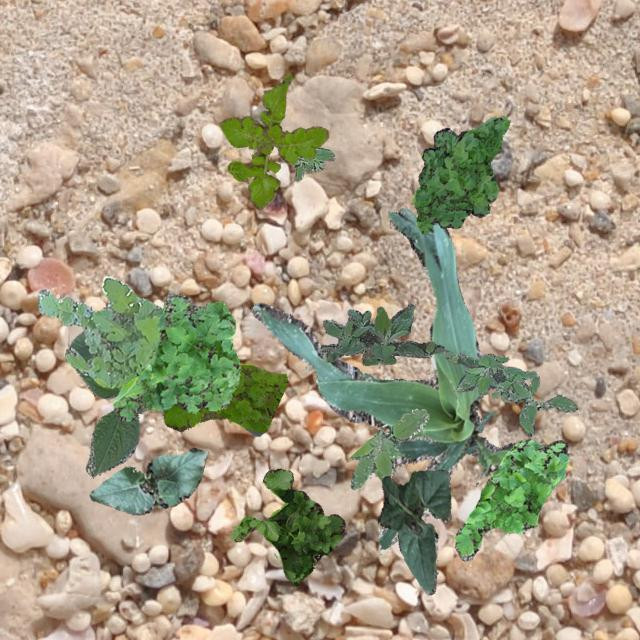crop: (250, 206, 514, 548), (68, 329, 138, 476), (376, 468, 449, 594), (89, 446, 208, 514)
weed: (113, 292, 240, 420), (218, 73, 328, 208), (36, 274, 162, 386), (453, 438, 568, 560), (230, 468, 344, 586), (411, 114, 508, 233), (162, 362, 286, 436), (318, 302, 444, 364), (348, 408, 428, 488), (442, 348, 536, 402), (506, 374, 576, 436), (290, 147, 334, 180)
